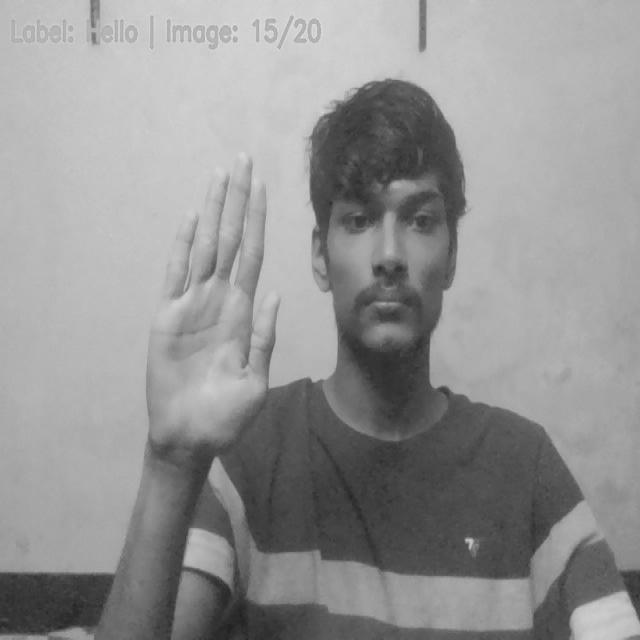Hello: (144, 151, 284, 450)
